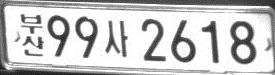1: (200, 20, 224, 63)
2: (141, 18, 165, 61)
6: (170, 20, 196, 62)
8: (229, 20, 256, 64)
9: (47, 14, 70, 57), (75, 16, 98, 59)
부산_V: (20, 13, 44, 55)
사: (103, 20, 128, 57)
